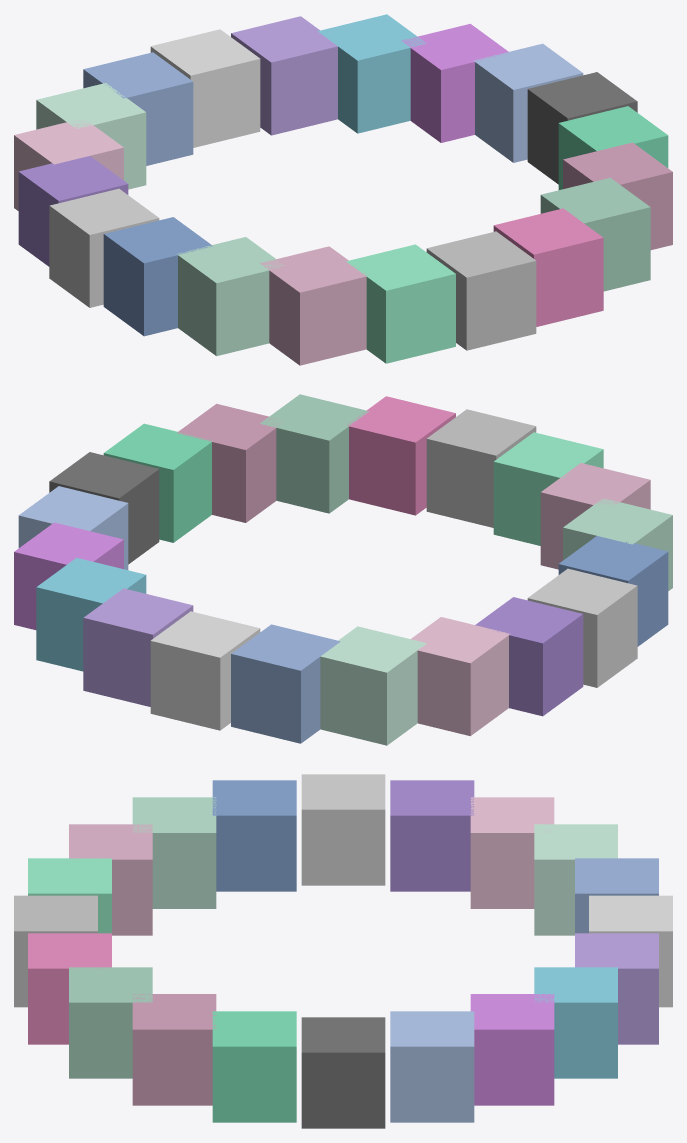
Rendered from too_many_materials.glb.
3 views of the same model, one above another, from view 1: azimuth 30°, elevation 25°; view 2: azimuth 150°, elevation 25°; view 3: azimuth 270°, elevation 25° (orthographic). The views are drawn at different scales.
Visible parts, largest first — view 1: too_many_materials; view 2: too_many_materials; view 3: too_many_materials.
Boxes of the visible parts, x1,y1,x2,y2 form: too_many_materials: (14, 14, 672, 365); too_many_materials: (14, 394, 672, 745); too_many_materials: (14, 774, 672, 1128).
Size of the model in its own units: 2.75 by 0.35 by 2.75.
